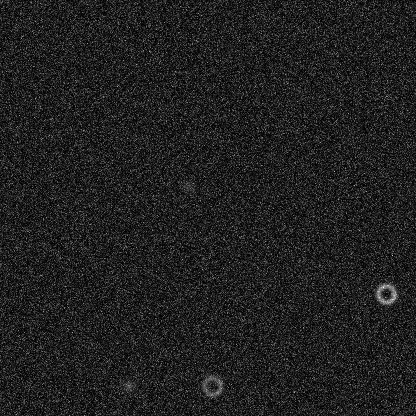Ring: (374, 281, 398, 305), (200, 374, 224, 398)
Spot: (119, 377, 135, 393), (180, 178, 196, 194)
